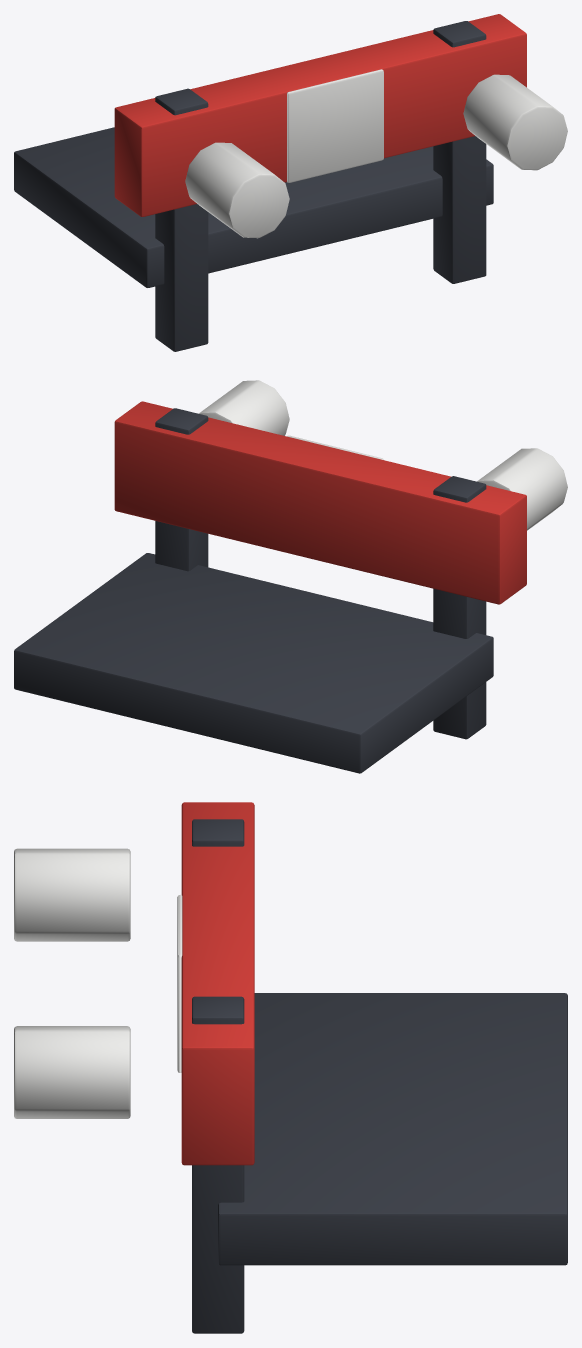
The model's file is buffer_stop.glb.
3 renders of one model, top to bottom at view 1: azimuth 30°, elevation 25°; view 2: azimuth 150°, elevation 25°; view 3: azimuth 270°, elevation 25°, orthographic. The views are drawn at different scales.
Visible parts, largest first — view 1: buffer_stop; view 2: buffer_stop; view 3: buffer_stop.
Part boxes in pixels (x1,y1,x2,y2): buffer_stop: (14,14,567,351); buffer_stop: (14,380,567,773); buffer_stop: (14,802,567,1333).
Size of the model in its own units: 2 by 1.2 by 1.9.
Materials: 3 (3 with a texture image).
